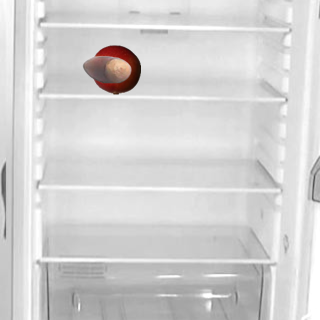Apple Braeburn: (90, 44, 140, 94)
Hazelnut: (81, 44, 131, 94)
